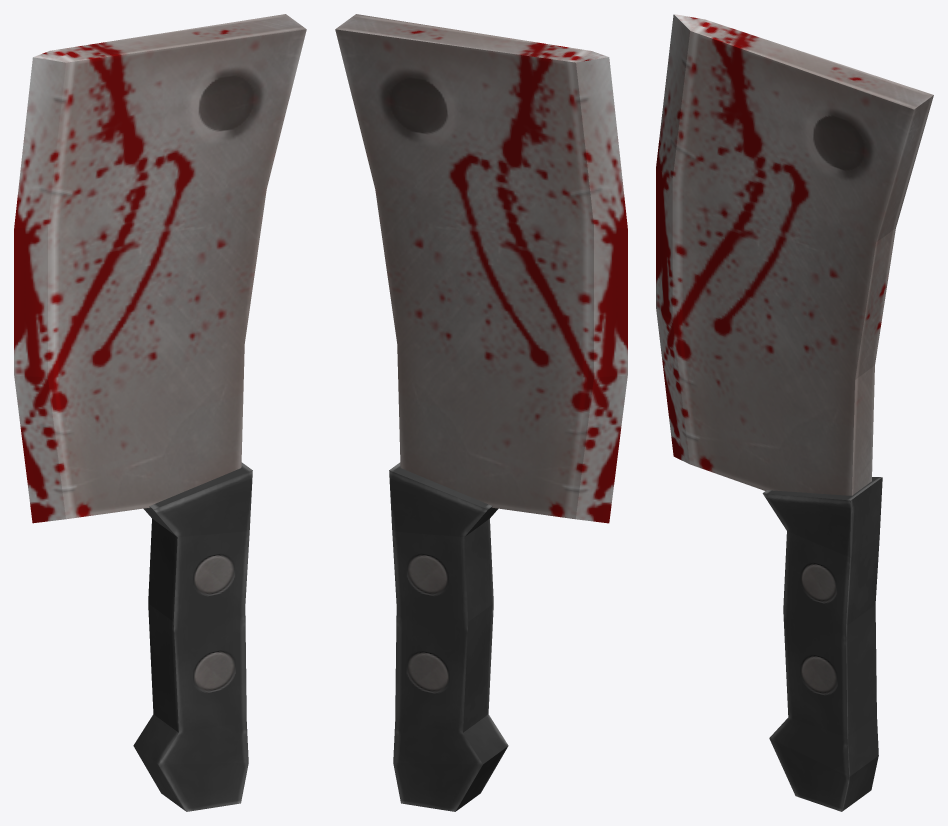
Rendered from bloody_cleaver.fbx.
The picture shows the model from 3 angles, left to right: view 1: azimuth 30°, elevation 25°; view 2: azimuth 150°, elevation 25°; view 3: azimuth 330°, elevation 25°; orthographic projection. The views are drawn at different scales.
Visible parts, largest first — view 1: bloody_cleaver; view 2: bloody_cleaver; view 3: bloody_cleaver.
Boxes of the visible parts, x1,y1,x2,y2 form: bloody_cleaver: (14,14,306,811); bloody_cleaver: (335,14,627,811); bloody_cleaver: (656,14,933,811).
Bounding box in the file's own units: 1.63 × 4.32 × 0.336.
